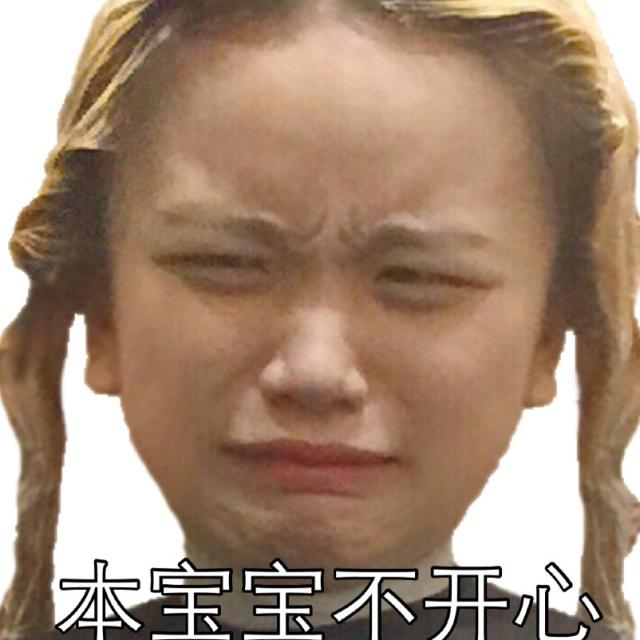Depress: (112, 30, 562, 576)
